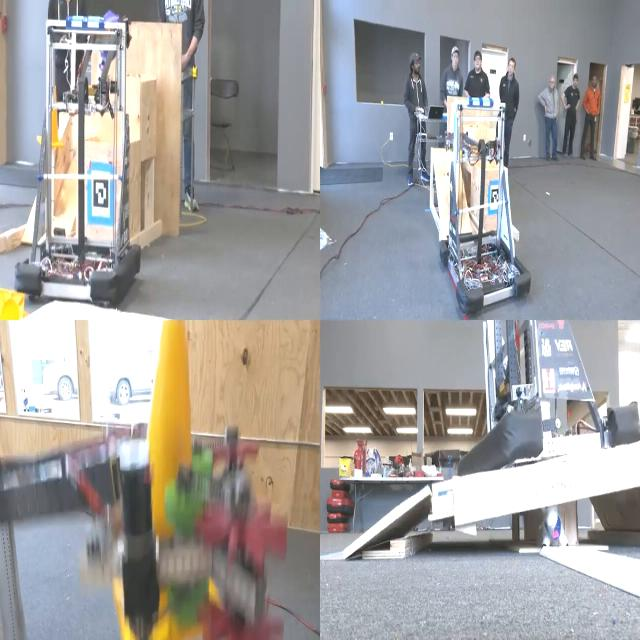frc_cone: (116, 318, 226, 640), (35, 79, 67, 161)
